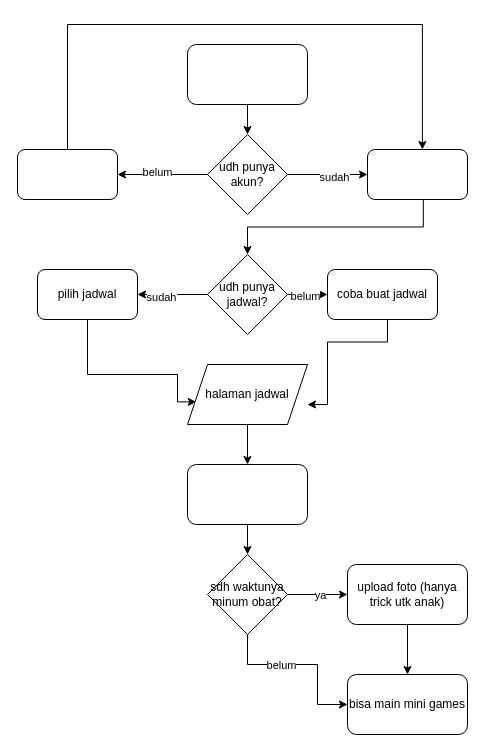
The diagram is 485 pixels wide and 752 high, and some of its shapes have lost their labels. The box of each missing label's shape, as (x1, y1, x2, y2) in pixels:
login: (366, 148, 468, 200)
sign up: (16, 148, 118, 200)
start: (186, 44, 308, 104)
terlihat maskot: (186, 464, 308, 524)
